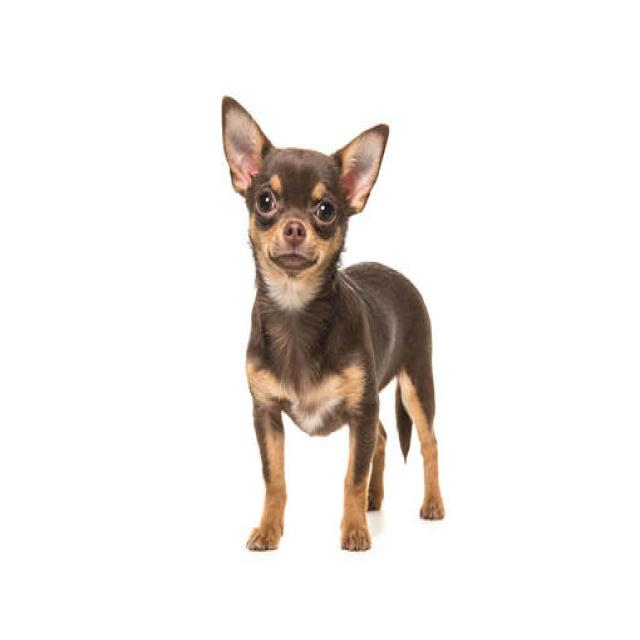chiwawa: (222, 90, 398, 370)
